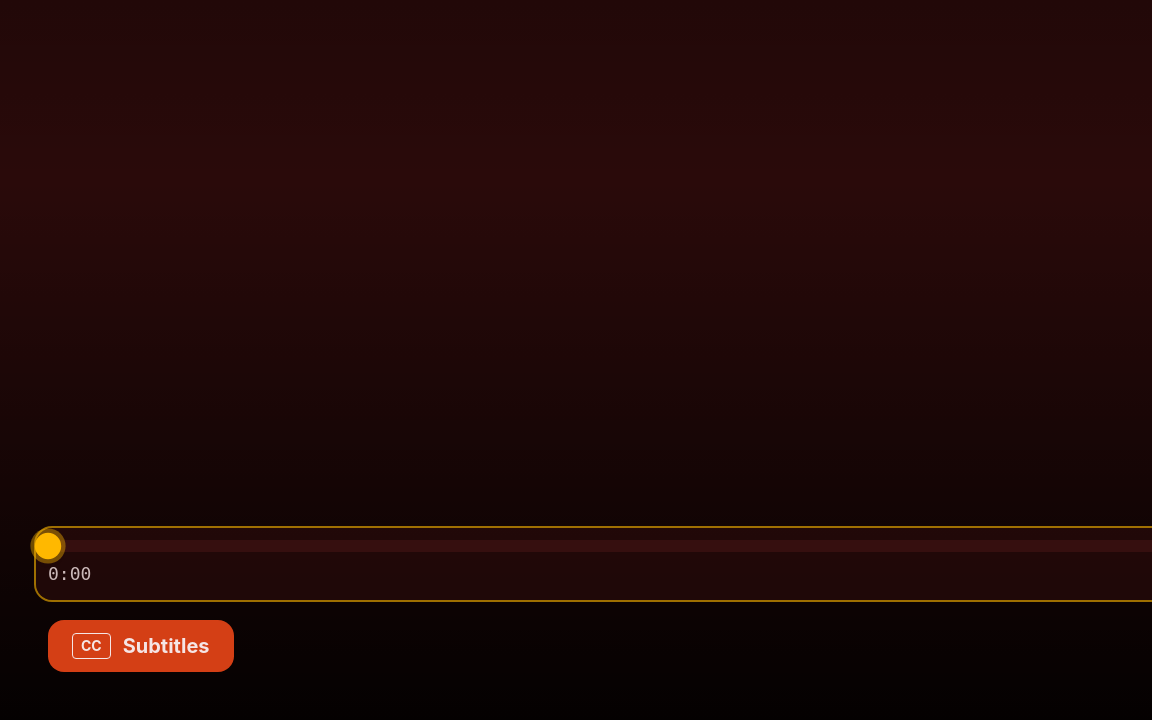
Test: PlayerOSD › Subtitles Menu & OSD Track Selection › opens popup menu when clicking Subtitles button and lists Off and tracks
(page scrolled)
What coordinates should you click on to do the following:
click the button with test id "subtitles-button"
I would click on:
 (141, 646)
Its box is [48,620,234,672].
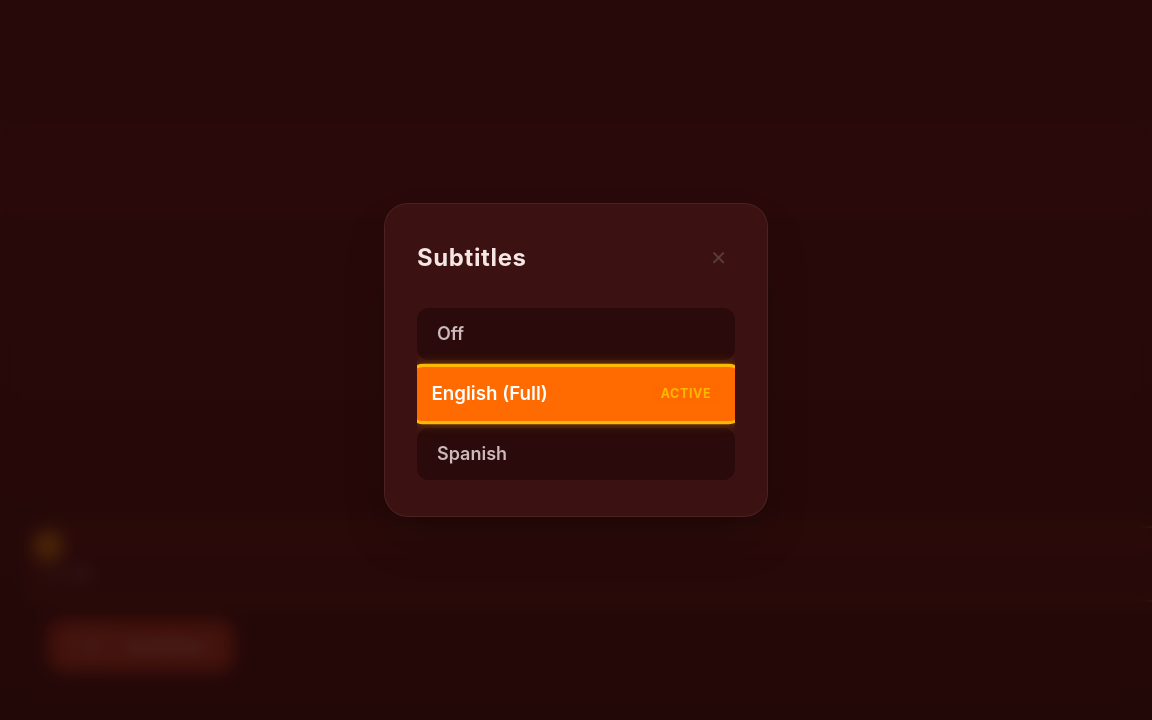
Expected: the dialog with test id "subtitles-popup" is shown
Expected: the element with id "3B1111" is shown, [384,203,768,517]
Expected: the text "Off" is shown, [437,320,464,348]
